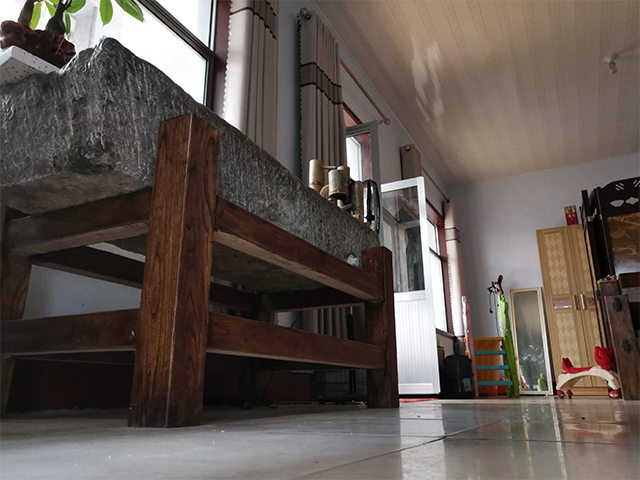cabinet: (534, 221, 614, 399)
carpet: (396, 395, 440, 404)
curtain: (294, 7, 350, 340)
